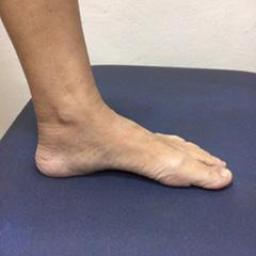Medial View -Left Foot-: (22, 82, 236, 200)
